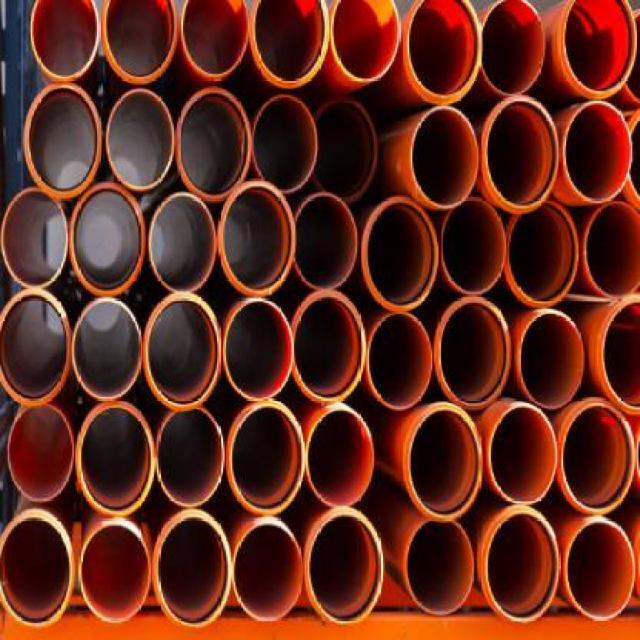pipe: (143, 294, 222, 412), (23, 82, 102, 199), (152, 514, 230, 630), (219, 180, 296, 297), (176, 86, 253, 202), (482, 97, 559, 212), (75, 400, 152, 514), (226, 403, 304, 514), (483, 508, 560, 620), (559, 400, 635, 513), (408, 408, 484, 521), (308, 511, 384, 624), (69, 182, 144, 296), (0, 289, 71, 408), (363, 198, 438, 310), (435, 298, 510, 410), (291, 291, 366, 398), (0, 515, 72, 626), (408, 0, 482, 104), (508, 202, 580, 306), (249, 0, 331, 89), (223, 298, 293, 400), (73, 299, 142, 400), (106, 88, 174, 190), (565, 100, 632, 203), (156, 406, 225, 506), (563, 0, 636, 94), (412, 108, 480, 208), (80, 523, 150, 620), (149, 194, 218, 292), (567, 522, 636, 620), (2, 189, 70, 288), (100, 0, 180, 84), (489, 405, 556, 505), (251, 95, 318, 194), (234, 523, 303, 619), (314, 97, 377, 202), (519, 312, 585, 410), (306, 409, 374, 504), (406, 520, 473, 616), (440, 197, 506, 294), (8, 405, 74, 502), (370, 312, 433, 410), (292, 194, 356, 290), (480, 0, 544, 93), (331, 0, 400, 83), (31, 0, 100, 81), (180, 0, 249, 78), (585, 202, 640, 299), (597, 299, 640, 414)
